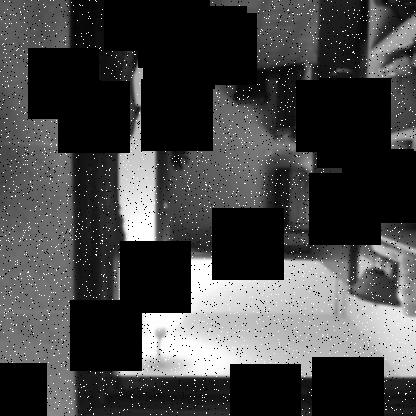Porte: (155, 0, 367, 288)
